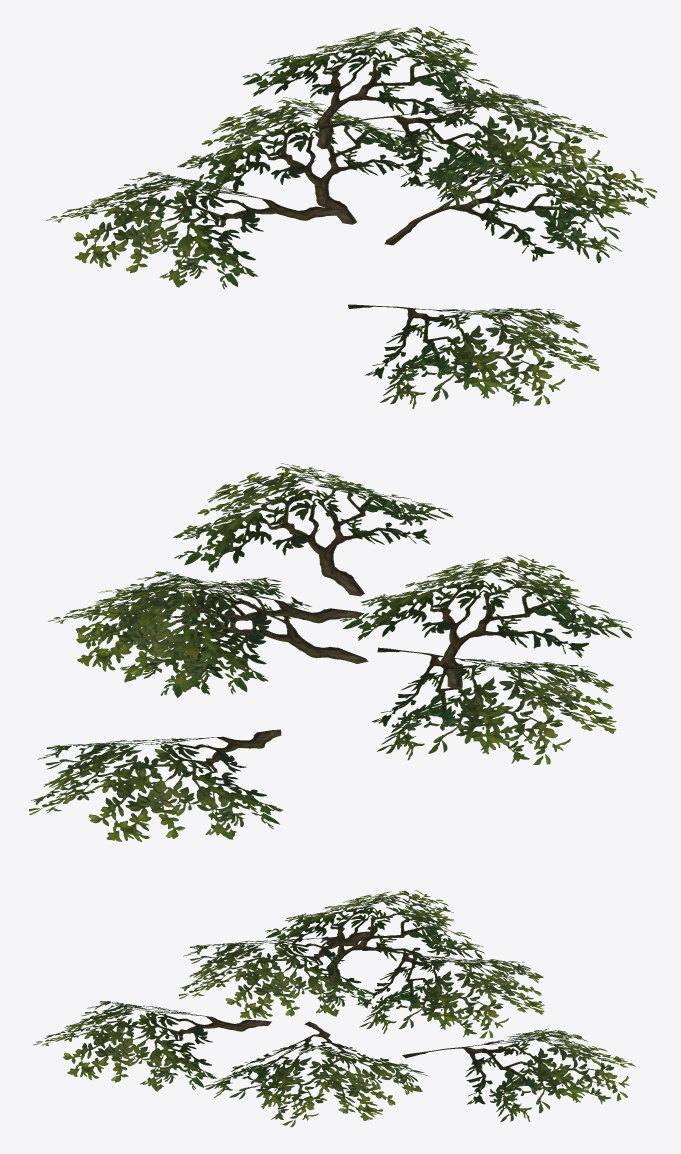
The model's file is fxmg_shuye2.FBX.
3 renders of one model, top to bottom at view 1: azimuth 30°, elevation 25°; view 2: azimuth 150°, elevation 25°; view 3: azimuth 270°, elevation 25°, orthographic. The views are drawn at different scales.
Visible parts, largest first — view 1: KLMSM_shuye2; view 2: KLMSM_shuye2; view 3: KLMSM_shuye2.
Part boxes in pixels (x1,y1,x2,y2): KLMSM_shuye2: (46,26,657,408); KLMSM_shuye2: (29,463,632,841); KLMSM_shuye2: (33,890,635,1127).
Size of the model in its own units: 1313 by 376 by 1552.
